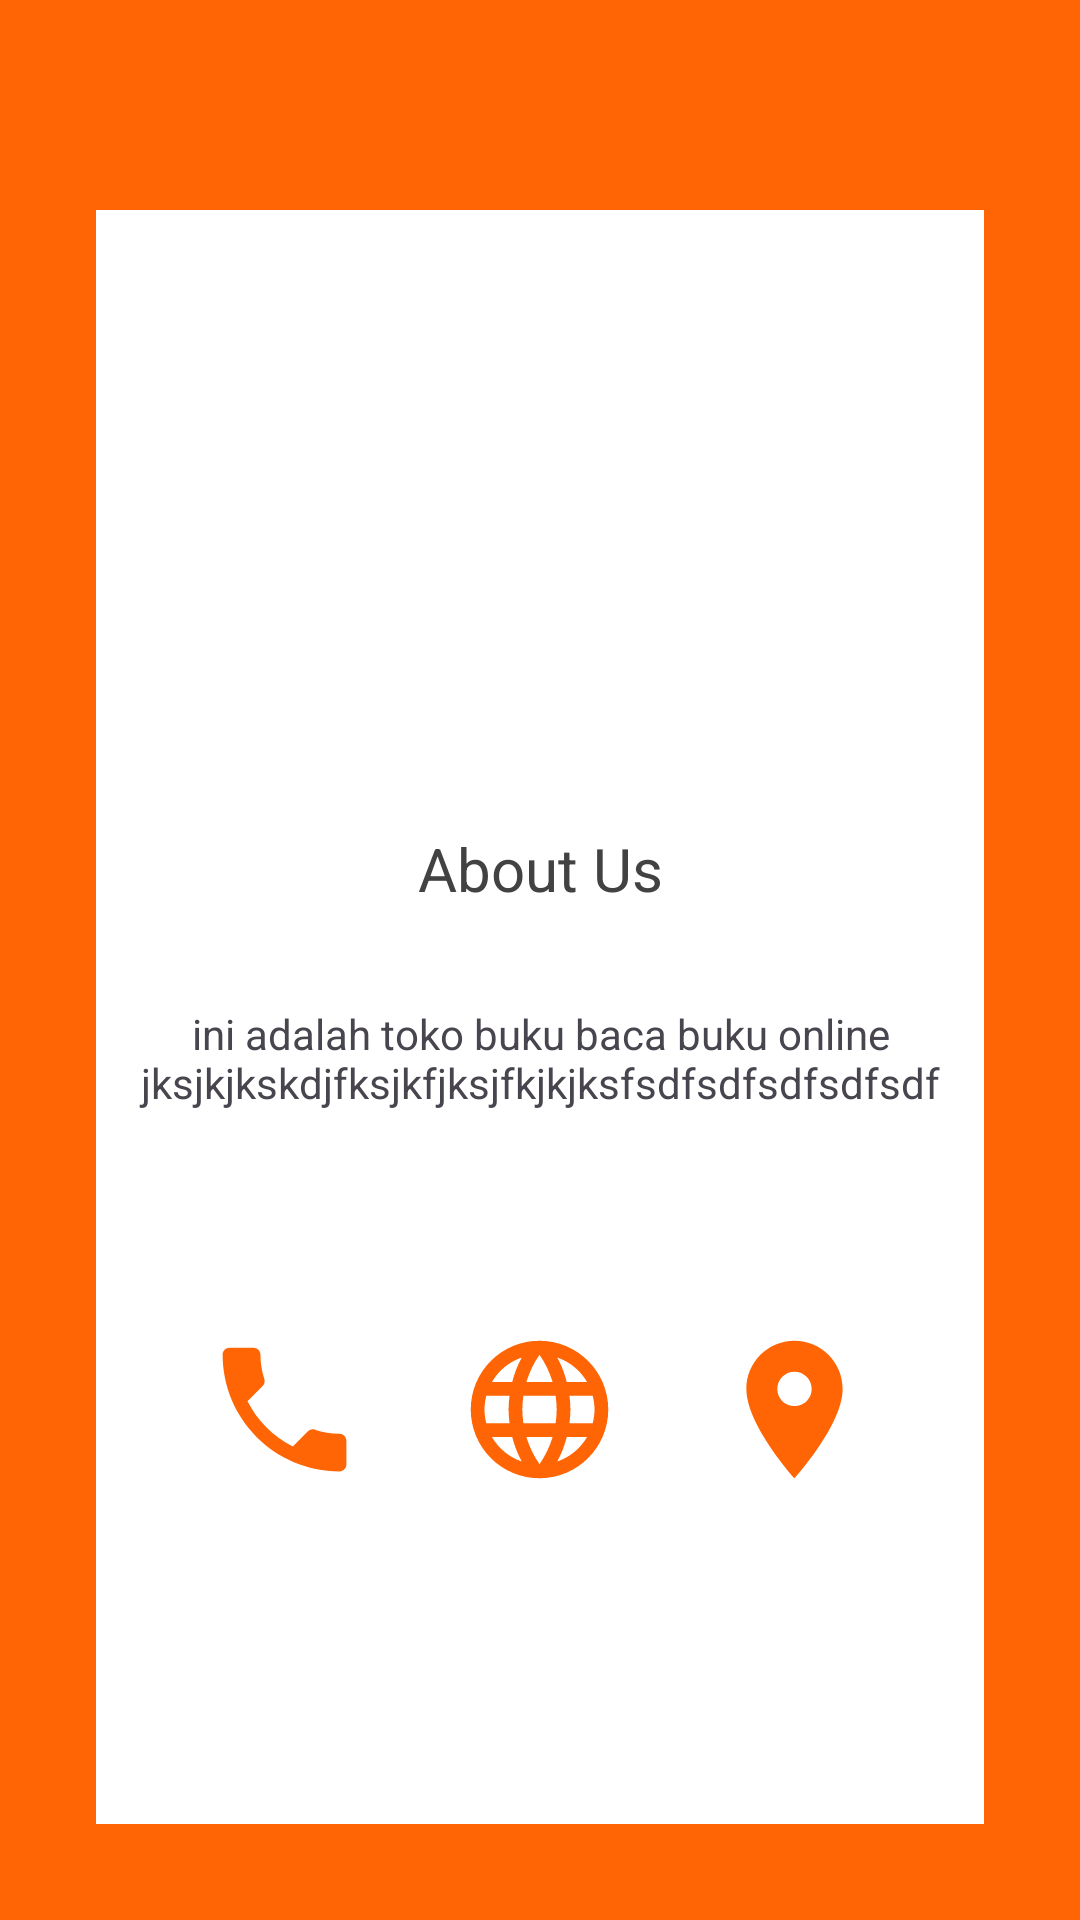

Locate icon controls on the screen. Image size 1080 x 1920, boxes as region(x1, y1, x2, y2).
language: region(470, 1340, 609, 1479)
local phone: region(222, 1347, 347, 1472)
location on: region(746, 1340, 843, 1479)
